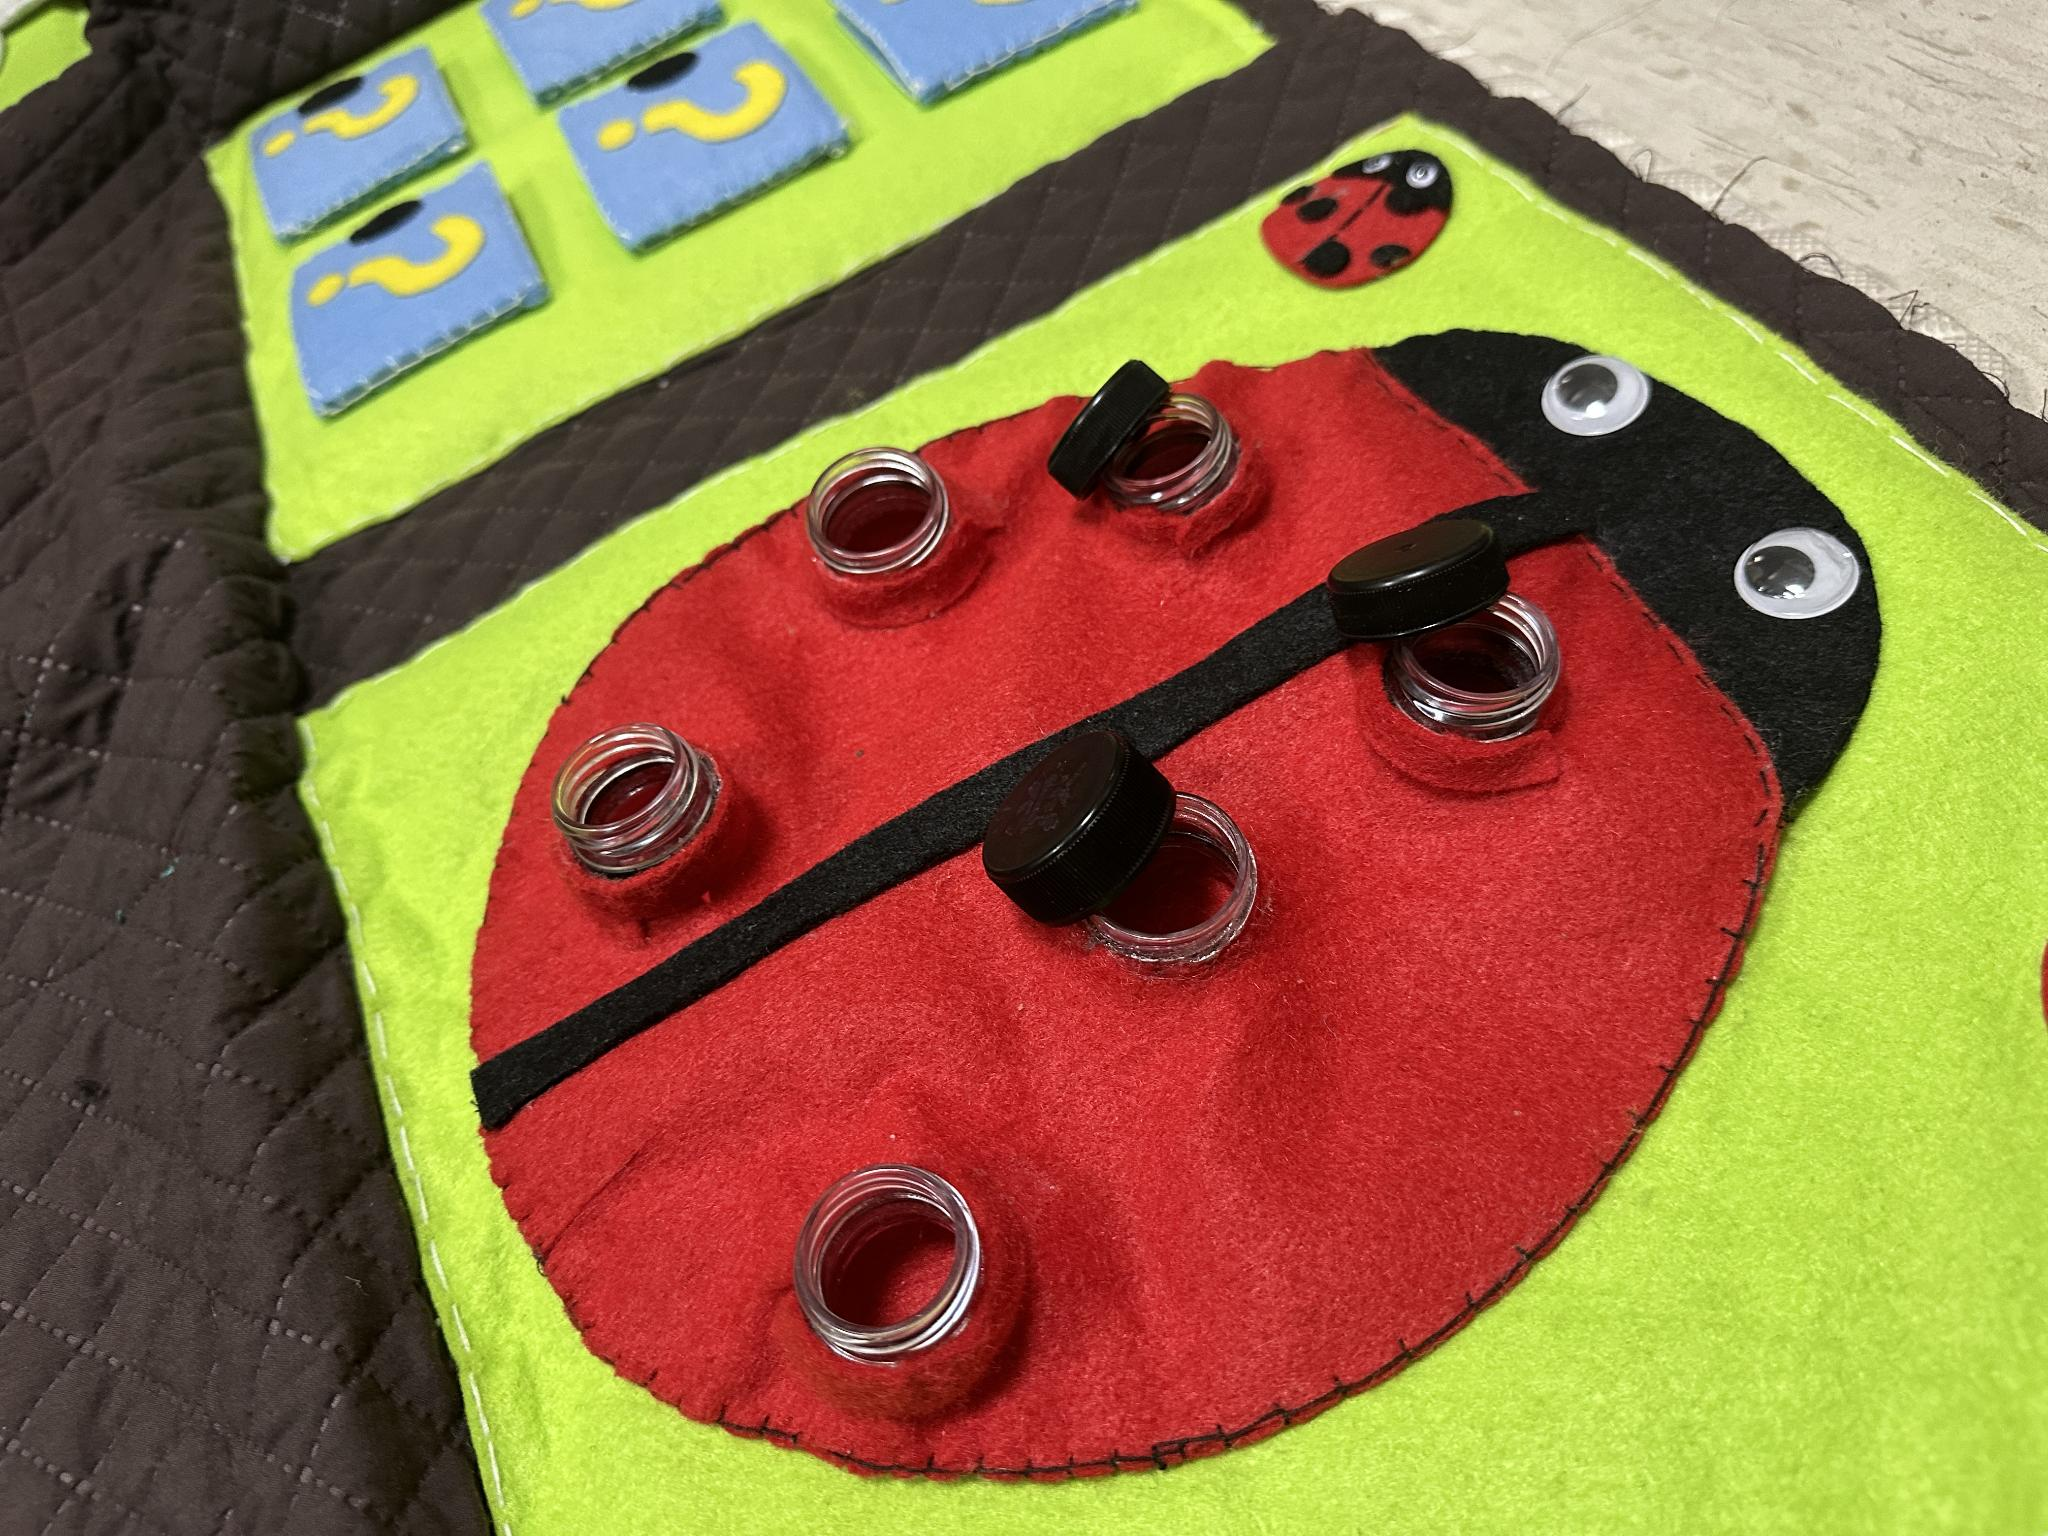cap_ng: (948, 720, 1298, 1000), (1317, 499, 1584, 820), (1029, 347, 1287, 576)
